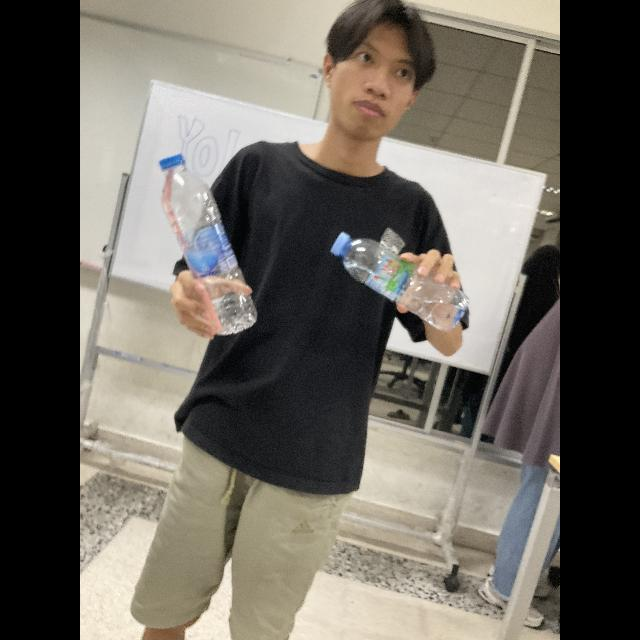plastic_bottle: (160, 153, 258, 335), (332, 228, 468, 334)
